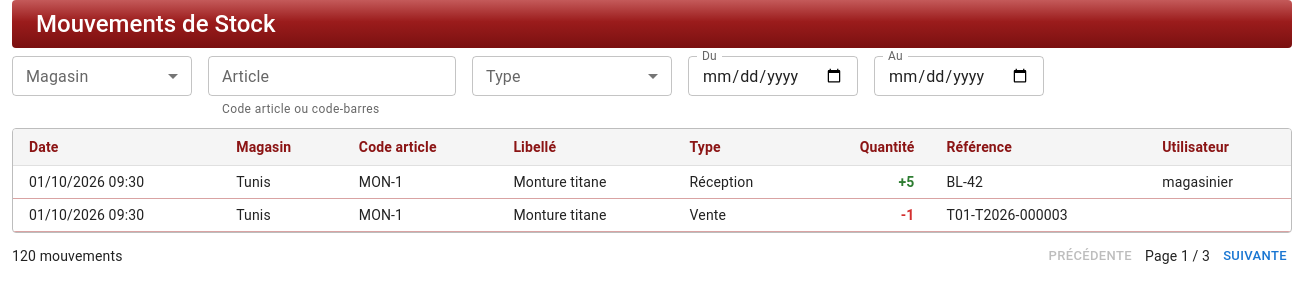
Scenario: pagine les mouvements par 50
Expected: the text "Page 1 / 3" is shown, 1145,246 -> 1210,266
Click the button "Suivante". click: {"x": 1255, "y": 256}
box: 1218,241 -> 1292,272
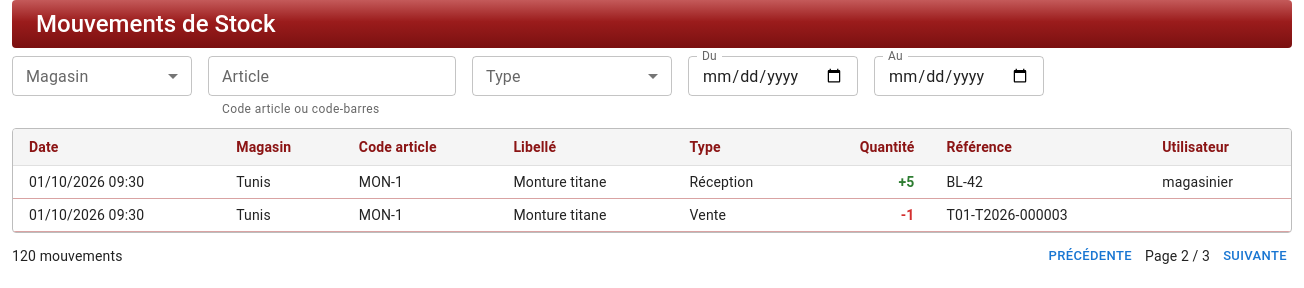
Result: the text "Page 2 / 3" is shown at 1145,246 -> 1210,266
